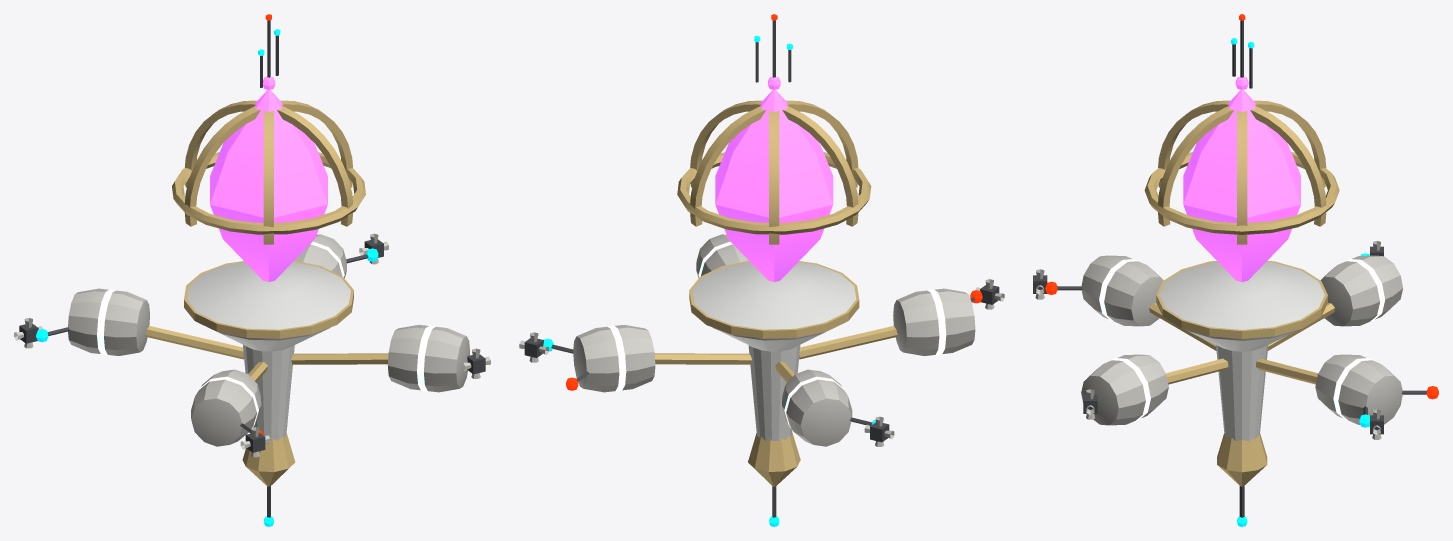
File: luxury_workshop.glb
3 views of the same model, side by side, from view 1: azimuth 30°, elevation 25°; view 2: azimuth 150°, elevation 25°; view 3: azimuth 270°, elevation 25° (orthographic).
Parts seen in each view (by area): view 1: luxury_workshop; view 2: luxury_workshop; view 3: luxury_workshop.
Part boxes in pixels (box(x1,y1,x2,y2)): luxury_workshop: box(14, 14, 490, 526); luxury_workshop: box(519, 14, 1004, 526); luxury_workshop: box(1033, 14, 1438, 526).
Size of the model in its own units: 1.66 by 2.19 by 1.57.
